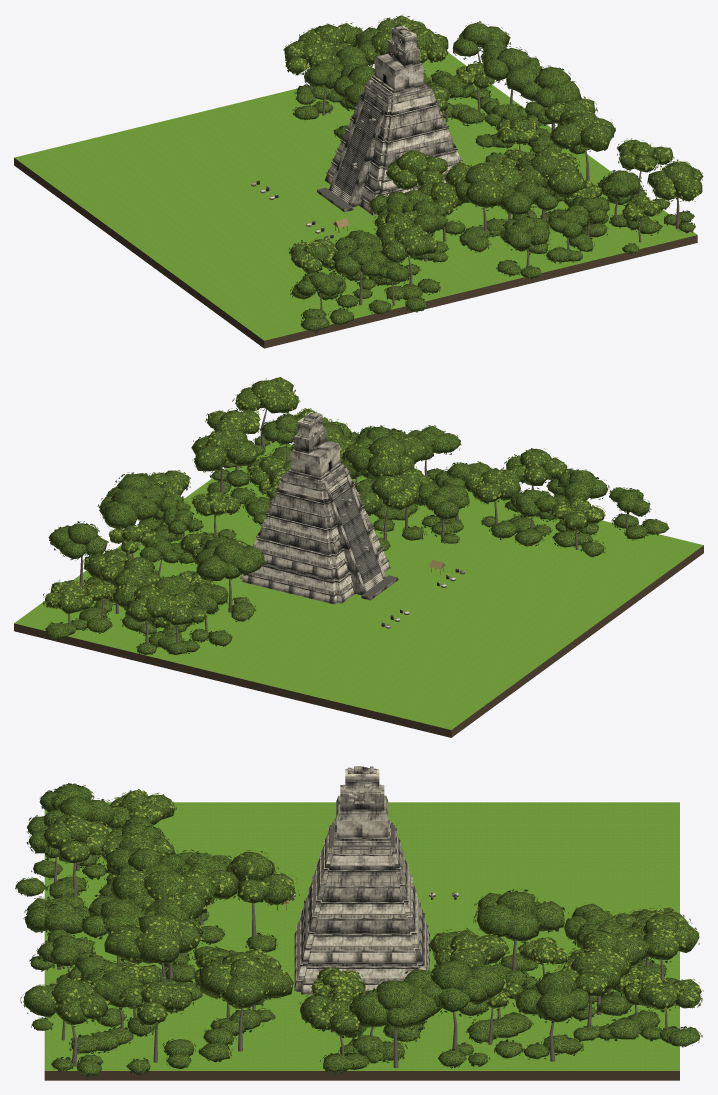
Rendered from tikal.glb.
The picture shows the model from 3 angles, top to bottom: view 1: azimuth 30°, elevation 25°; view 2: azimuth 150°, elevation 25°; view 3: azimuth 270°, elevation 25°; orthographic projection. The views are drawn at different scales.
Parts seen in each view (by area): view 1: Tikal; view 2: Tikal; view 3: Tikal.
Part boxes in pixels (bbox=[...]): Tikal: bbox=[14, 14, 703, 348]; Tikal: bbox=[14, 377, 703, 737]; Tikal: bbox=[15, 766, 703, 1080].
Size of the model in its own units: 156 by 54 by 163.
Materials: 17 (13 with a texture image).
